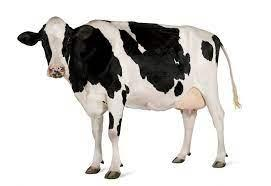cow: (17, 16, 242, 180)
